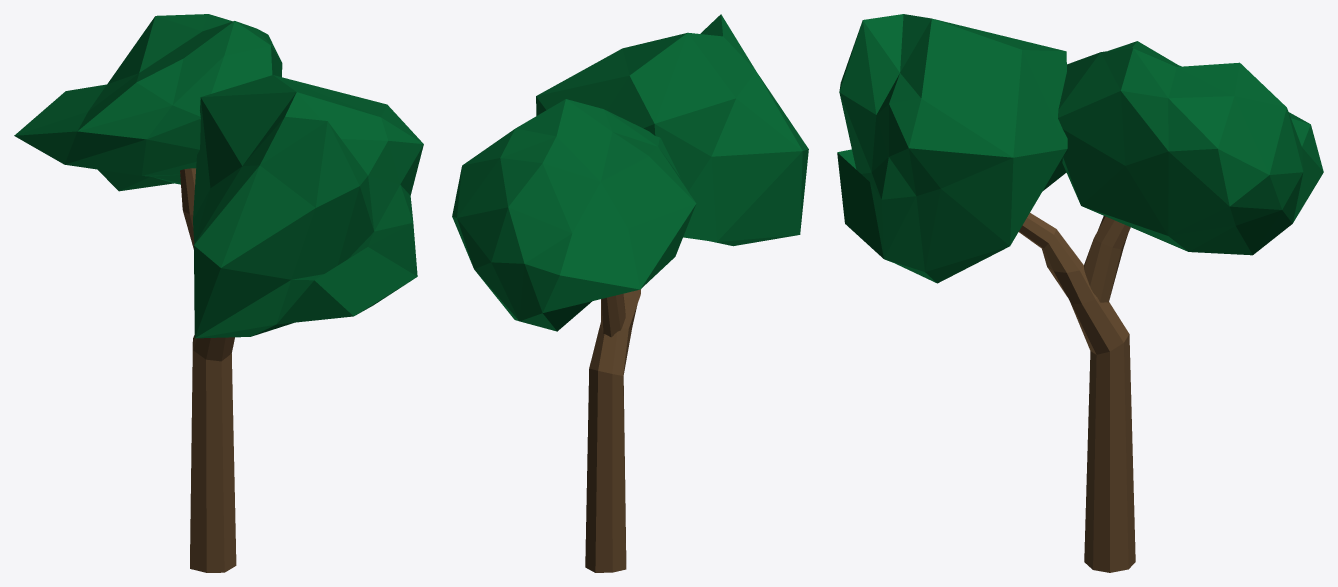
File: tree1.fbx
3 renders of one model, left to right at view 1: azimuth 30°, elevation 25°; view 2: azimuth 150°, elevation 25°; view 3: azimuth 270°, elevation 25°, orthographic. The views are drawn at different scales.
Parts seen in each view (by area): view 1: Cube.002; view 2: Cube.002; view 3: Cube.002.
Boxes of the visible parts, bbox=[...] form: Cube.002: bbox=[14, 14, 423, 572]; Cube.002: bbox=[452, 14, 808, 572]; Cube.002: bbox=[837, 14, 1323, 572].
Size of the model in its own units: 489 by 1015 by 826.
